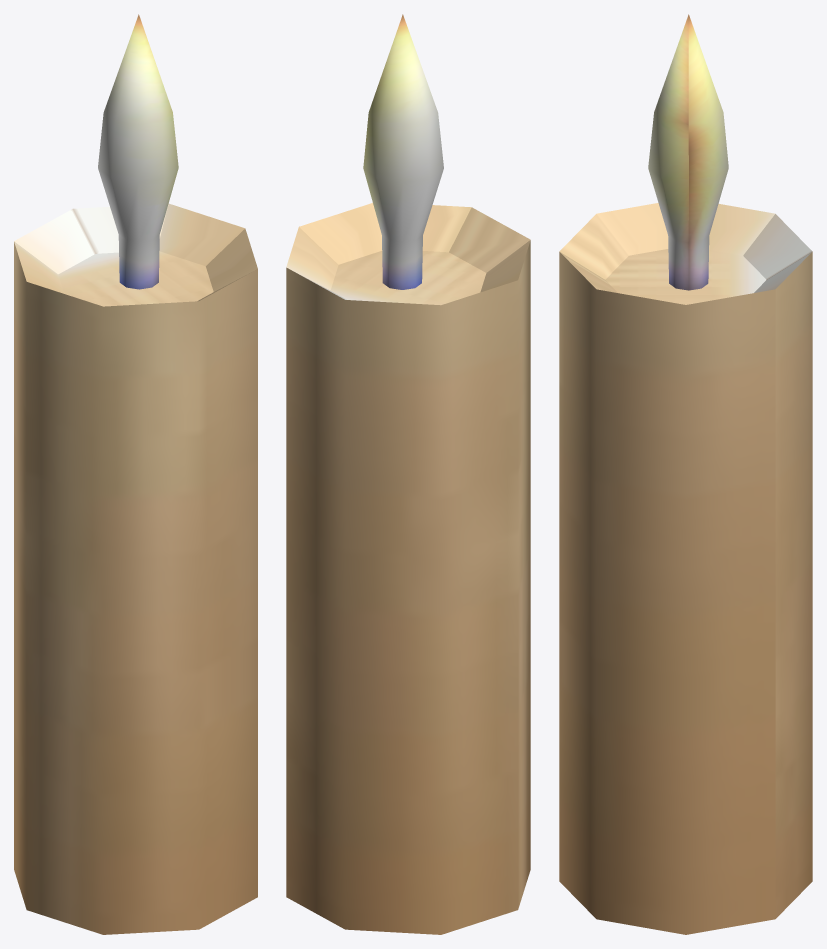
Rendered from candle.fbx.
The picture shows the model from 3 angles, left to right: view 1: azimuth 30°, elevation 25°; view 2: azimuth 150°, elevation 25°; view 3: azimuth 270°, elevation 25°; orthographic projection.
Visible parts, largest first — view 1: pCylinder1, pCone1; view 2: pCylinder1, pCone1; view 3: pCylinder1, pCone1.
Boxes of the visible parts, left/top/right/bottom form: pCylinder1: left=14, top=203, right=257, bottom=934; pCone1: left=98, top=14, right=178, bottom=289; pCylinder1: left=286, top=203, right=530, bottom=934; pCone1: left=363, top=14, right=443, bottom=289; pCylinder1: left=559, top=203, right=812, bottom=934; pCone1: left=648, top=14, right=728, bottom=290.
Size of the model in its own units: 66.42 by 252 by 66.42.
Materials: 2 (2 with a texture image).
